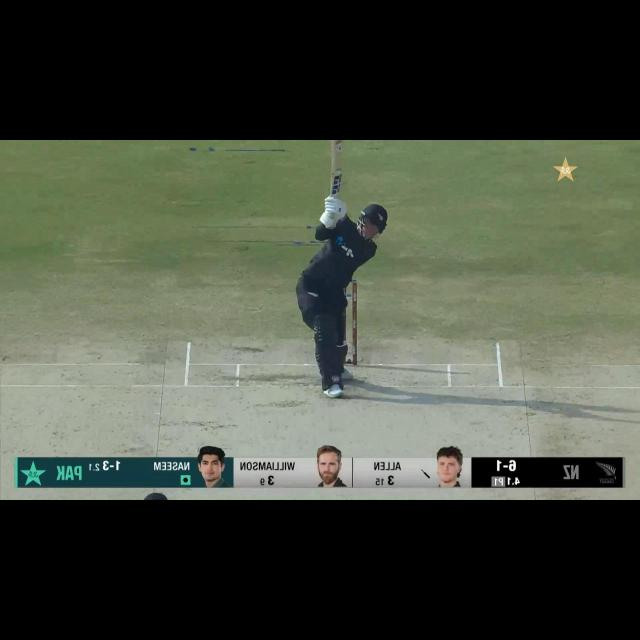bat: (328, 138, 344, 200)
toe: (329, 140, 345, 150)
